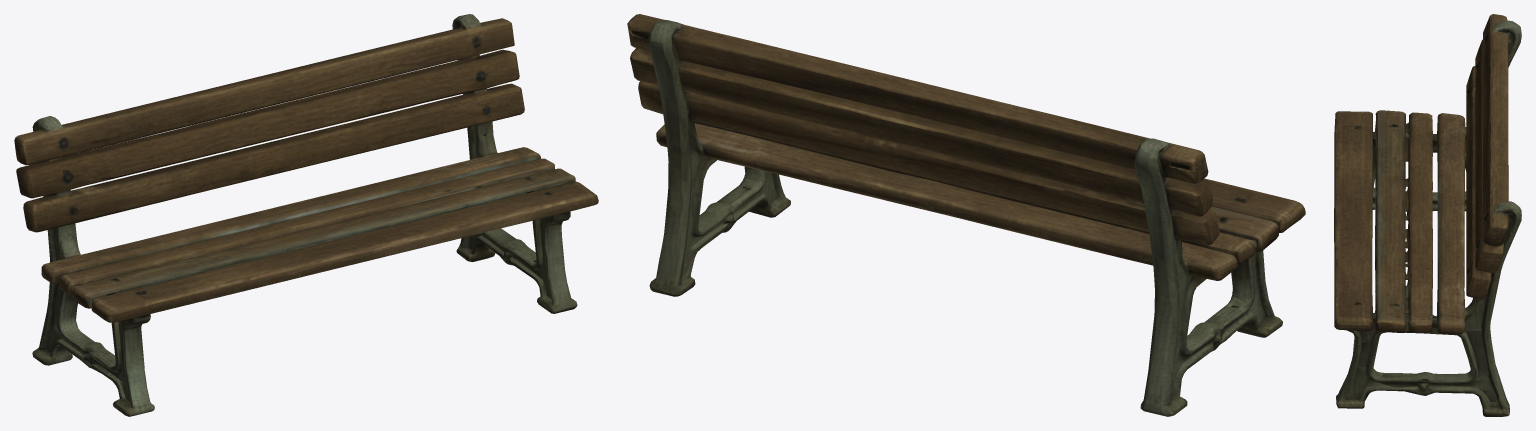
Rendered from bench.glb.
3 renders of one model, left to right at view 1: azimuth 30°, elevation 25°; view 2: azimuth 150°, elevation 25°; view 3: azimuth 270°, elevation 25°, orthographic. The views are drawn at different scales.
Visible parts, largest first — view 1: world; view 2: world; view 3: world.
Boxes of the visible parts, <box> form: world: <box>14,14,598,416</box>; world: <box>627,14,1305,416</box>; world: <box>1334,14,1521,416</box>.
Size of the model in its own units: 2.35 by 1.07 by 0.8767.
Materials: 1 (1 with a texture image).
